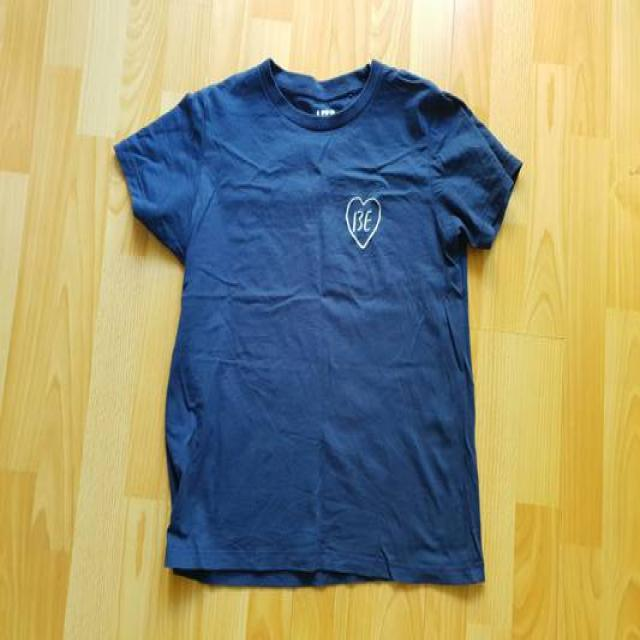shirt: (114, 58, 524, 588)
